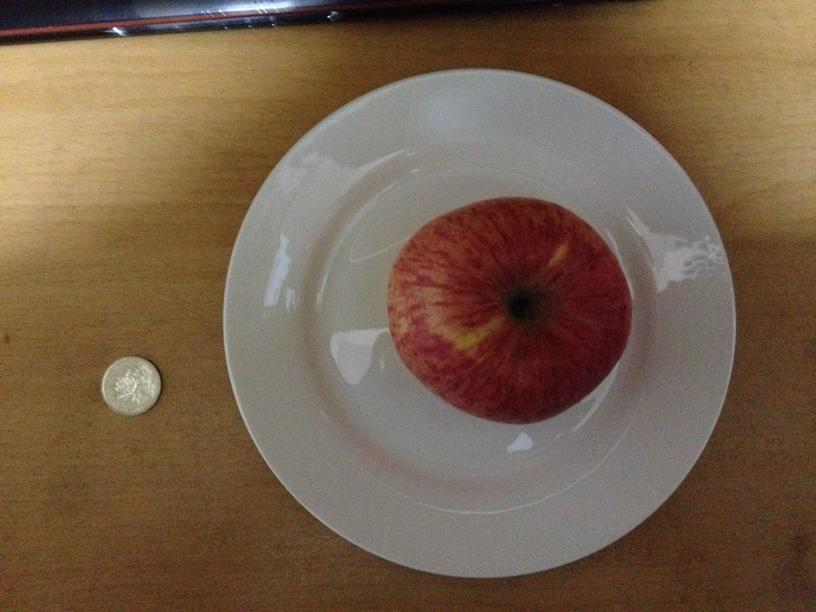apple: (386, 193, 632, 426)
coin: (98, 354, 164, 418)
